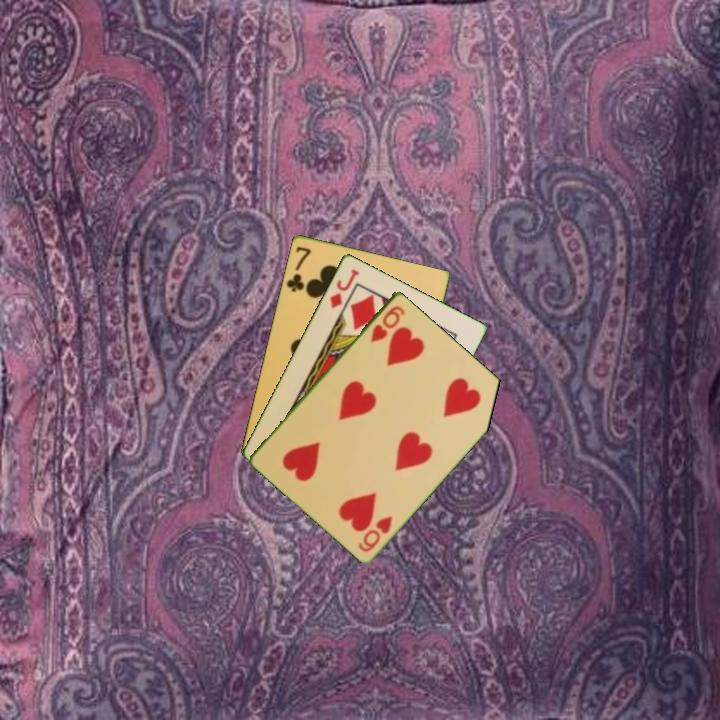6h: (367, 302, 408, 345), (355, 512, 395, 555)
7c: (283, 243, 313, 295)
Jd: (326, 265, 362, 311)
